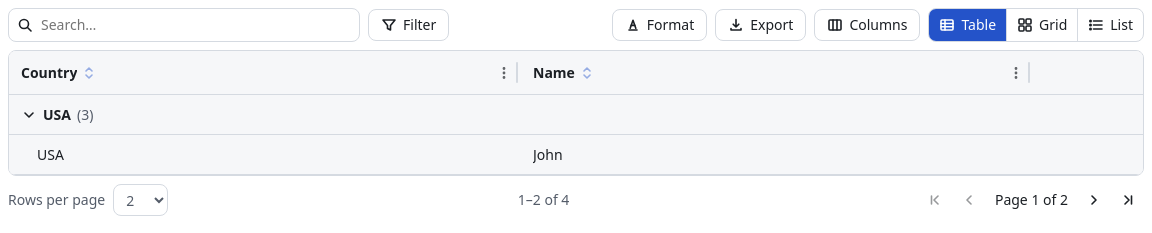
row grouping › paginates grouped rows without shrinking the group count
This screenshot has width=1152, height=233.
Expected: the text with class "aits-group-count" reads "(3)", [77,105,93,124]
Expected: the text "John" is shown, [533,145,563,164]
Click the button named "Next page" at (1094, 200), box [1078,184,1110,216]
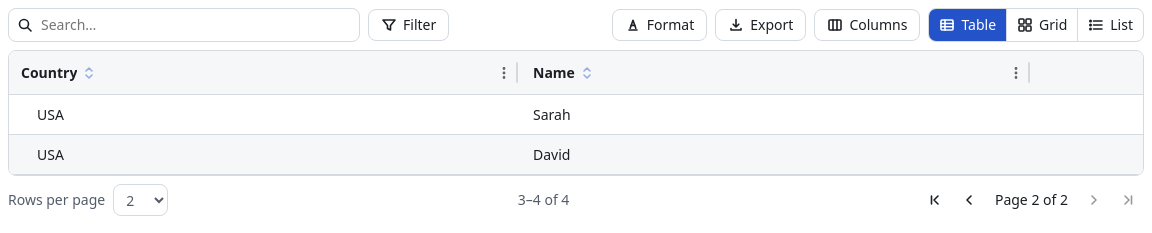
Expected: the text "Sarah" is shown, [533,105,571,124]
Expected: the text with class "aits-group-count" is gone
